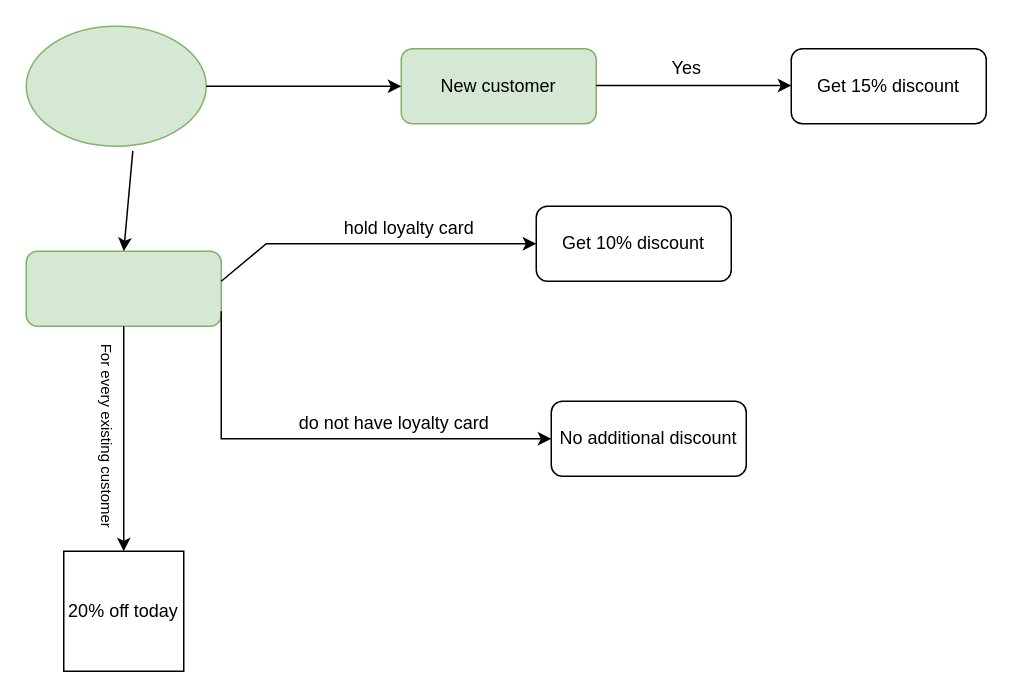
Image size: 1013x698. Some labels were removed from this diagram. Each missing label, with the centre of its shape:
"Existing customer" belongs at point (123, 288).
"Open Credit Card Account" belongs at point (115, 85).
